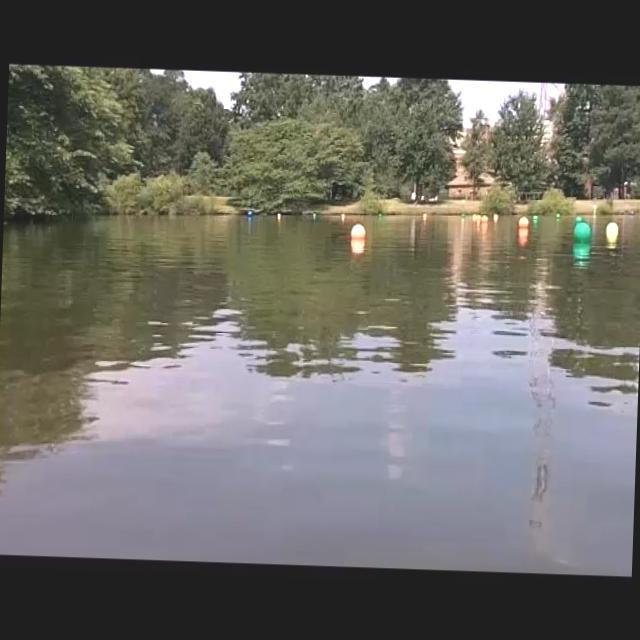buoy: (572, 215, 590, 247), (349, 220, 368, 244), (601, 222, 620, 245), (516, 212, 531, 232)
